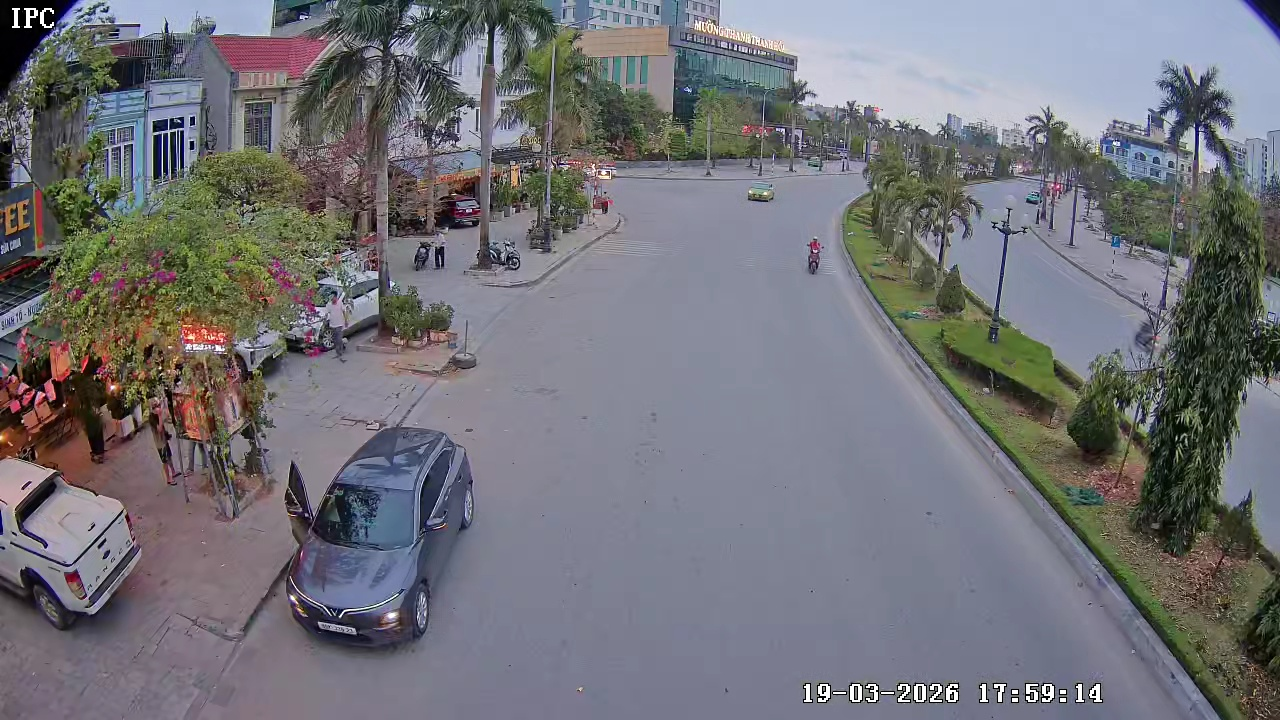car: (284, 422, 479, 648), (0, 456, 142, 630)
motorbike: (745, 175, 777, 203), (804, 234, 825, 275)
